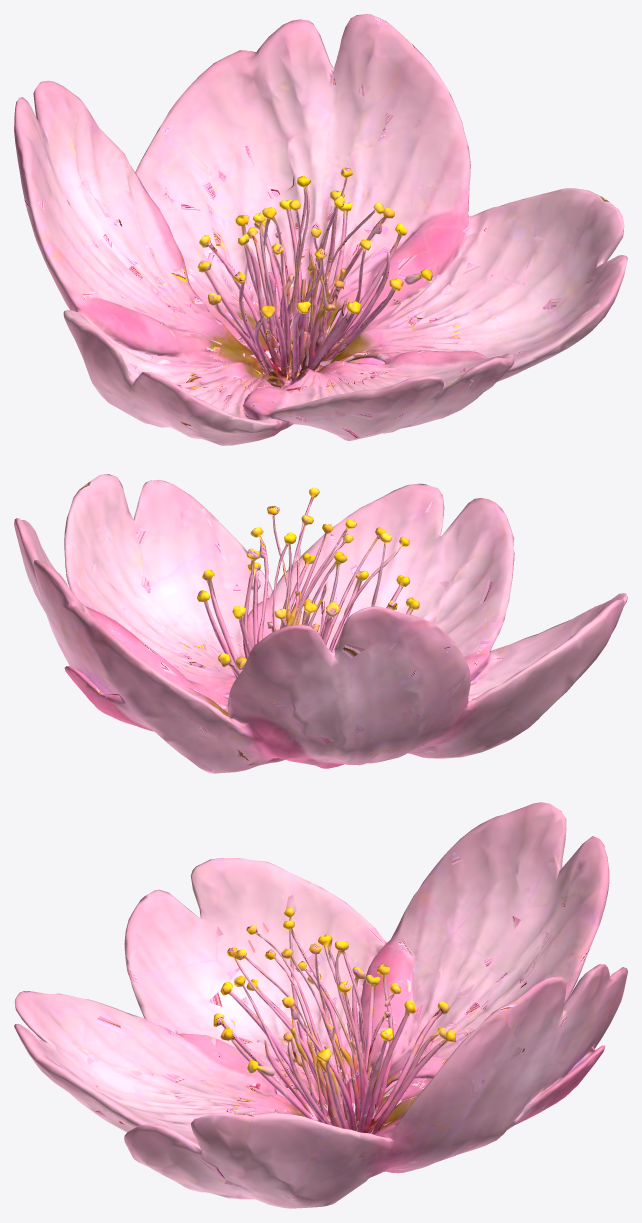
The picture shows the model from 3 angles, top to bottom: view 1: azimuth 30°, elevation 25°; view 2: azimuth 150°, elevation 25°; view 3: azimuth 270°, elevation 25°; orthographic projection.
Size of the model in its own units: 1.9 by 0.9108 by 1.9.
1 material, 1 textured.
